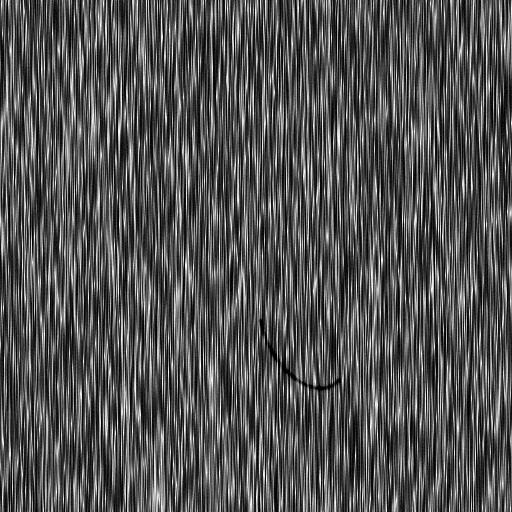DefectTypeC: (257, 317, 343, 393)
